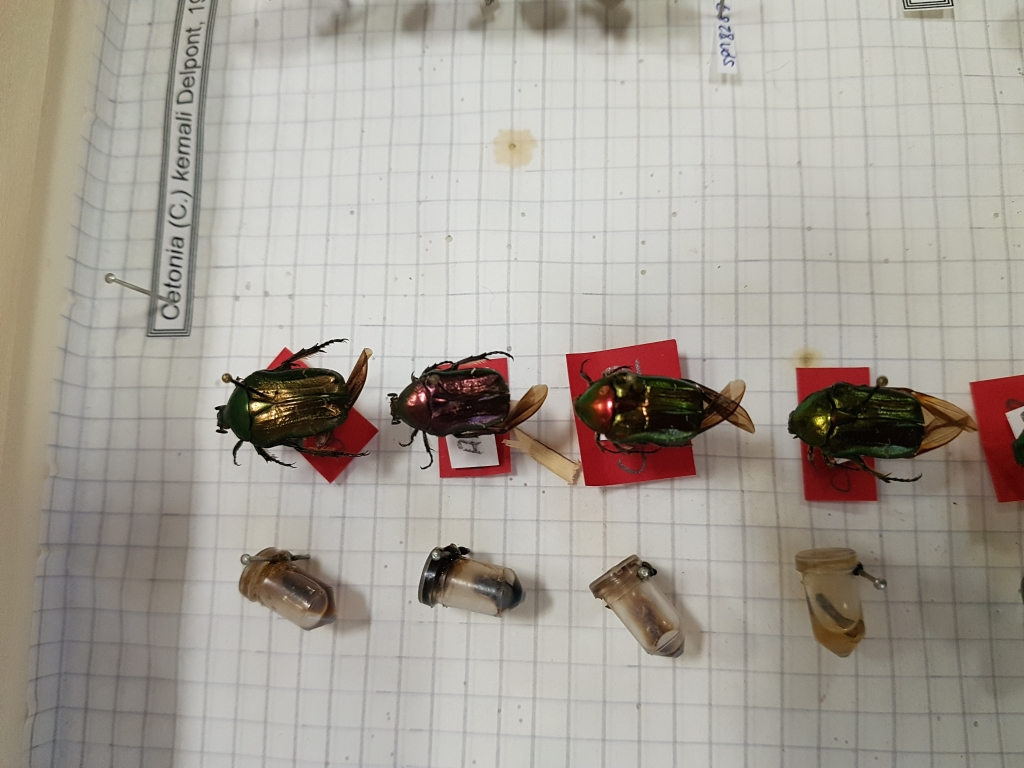Cetonia_kemali: (781, 364, 976, 490), (196, 333, 368, 467), (388, 346, 554, 467)
